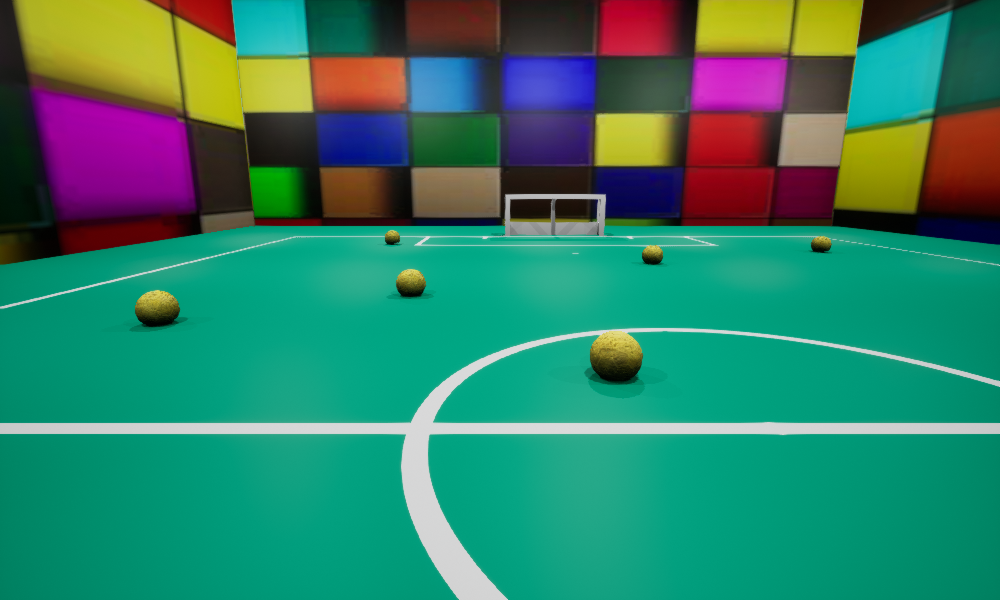b: (590, 331, 642, 380), (135, 290, 179, 325), (396, 269, 425, 296), (642, 245, 662, 263), (811, 236, 831, 251), (385, 230, 399, 244)
g: (505, 194, 605, 235)
